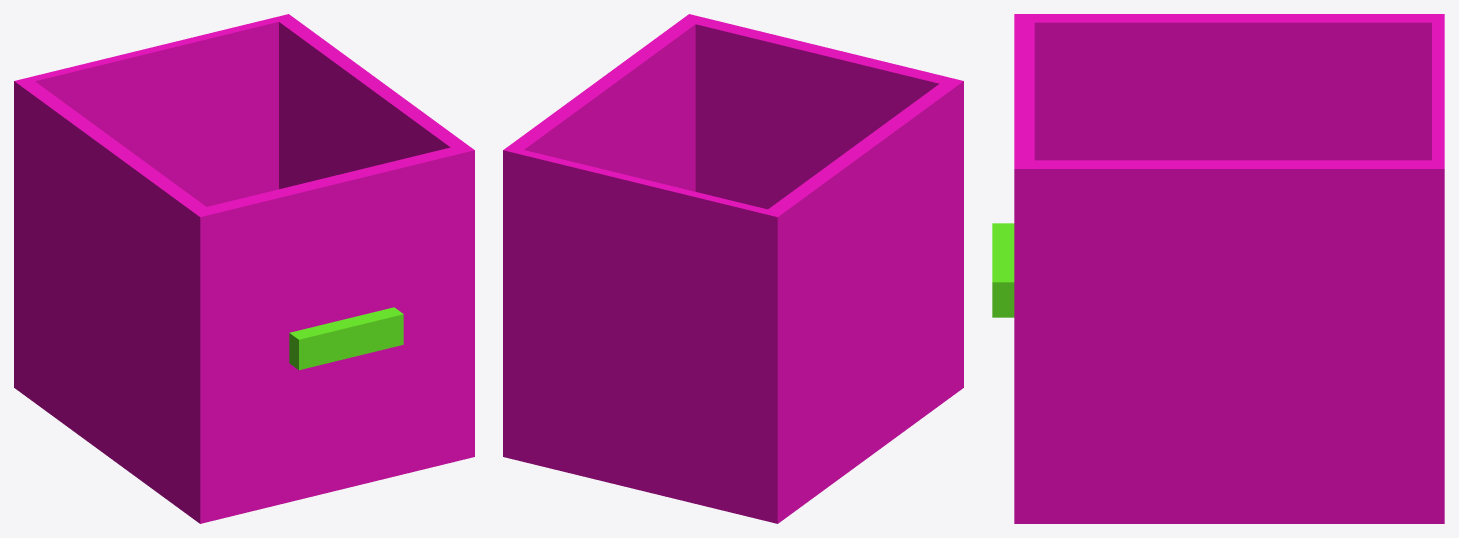
Rendered from Small_Drawer_3.gltf.
The picture shows the model from 3 angles, left to right: view 1: azimuth 30°, elevation 25°; view 2: azimuth 150°, elevation 25°; view 3: azimuth 270°, elevation 25°; orthographic projection. The views are drawn at different scales.
Visible parts, largest first — view 1: Small_Drawer_2; view 2: Small_Drawer_2; view 3: Small_Drawer_2.
Boxes of the visible parts, x1,y1,x2,y2 form: Small_Drawer_2: (14, 14, 474, 523); Small_Drawer_2: (503, 14, 963, 523); Small_Drawer_2: (992, 14, 1444, 523).
Size of the model in its own units: 3.53 by 3.77 by 4.35.
